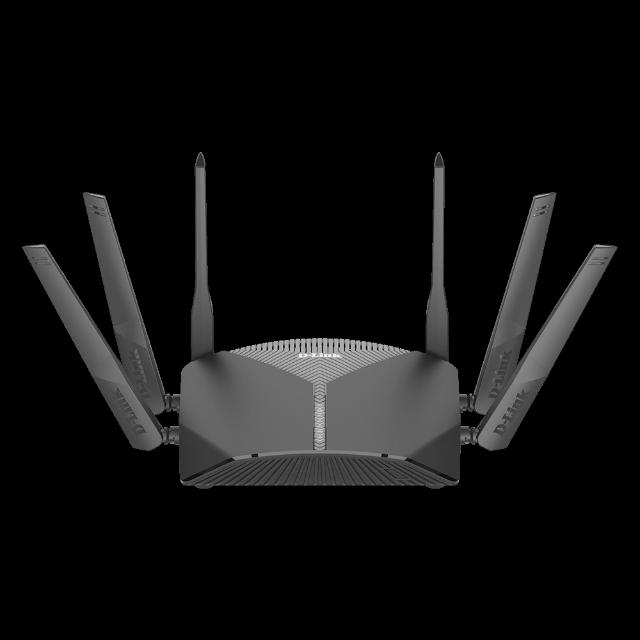Router: (21, 150, 625, 491)
